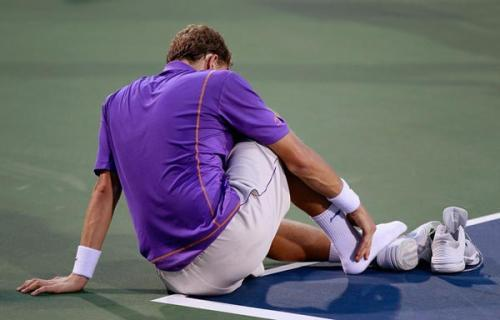bending: (22, 22, 408, 299)
